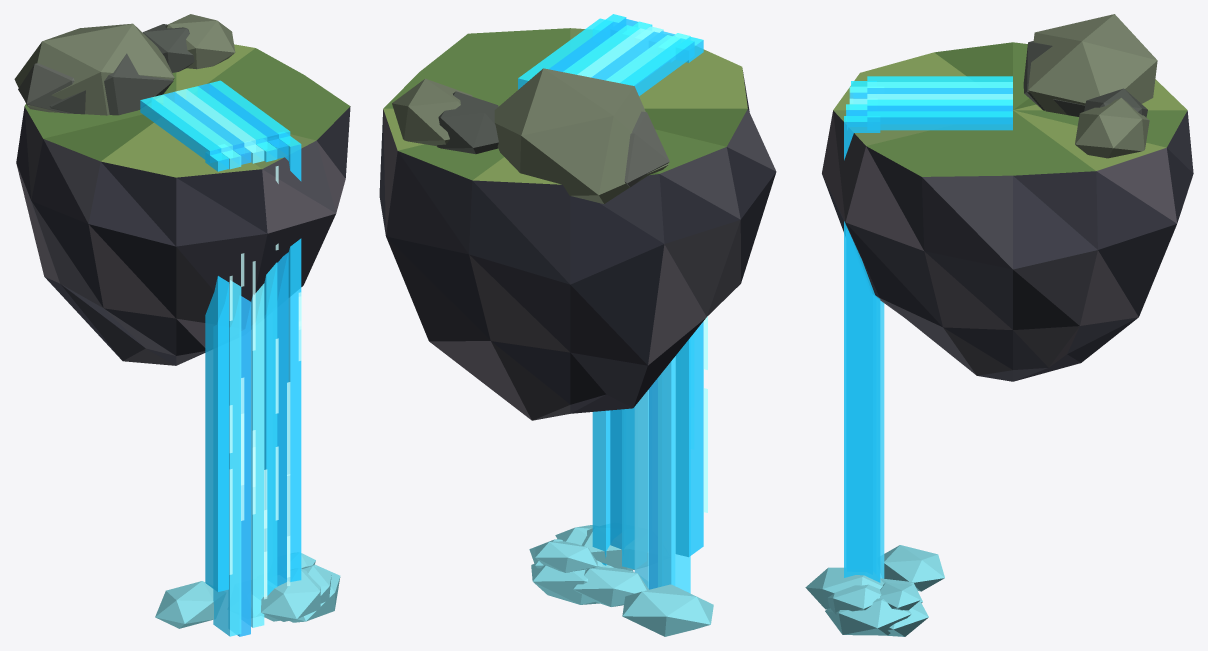
Rendered from narrow-waterfall.glb.
3 renders of one model, left to right at view 1: azimuth 30°, elevation 25°; view 2: azimuth 150°, elevation 25°; view 3: azimuth 270°, elevation 25°, orthographic. The views are drawn at different scales.
Parts seen in each view (by area): view 1: Narrow_Waterfall; view 2: Narrow_Waterfall; view 3: Narrow_Waterfall.
Part boxes in pixels (x1=…): Narrow_Waterfall: x1=14, y1=14, x2=350, y2=636; Narrow_Waterfall: x1=379, y1=14, x2=776, y2=636; Narrow_Waterfall: x1=805, y1=14, x2=1193, y2=636.
Size of the model in its own units: 1.79 by 3.06 by 1.92.
